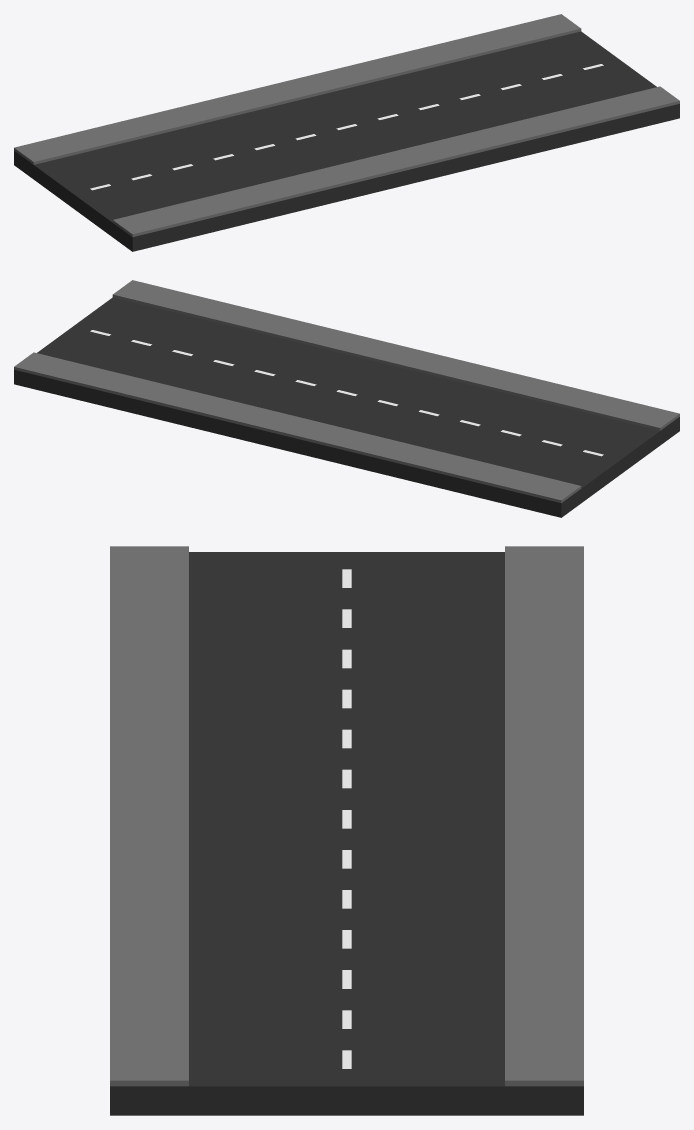
File: Cargo_Road_40M.fbx
3 renders of one model, top to bottom at view 1: azimuth 30°, elevation 25°; view 2: azimuth 150°, elevation 25°; view 3: azimuth 270°, elevation 25°, orthographic. The views are drawn at different scales.
Parts seen in each view (by area): view 1: Cargo_Road_40m_Dikey; view 2: Cargo_Road_40m_Dikey; view 3: Cargo_Road_40m_Dikey.
Boxes of the visible parts, box(x1,y1,x2,y2) form: Cargo_Road_40m_Dikey: box(14, 14, 679, 251); Cargo_Road_40m_Dikey: box(14, 280, 679, 517); Cargo_Road_40m_Dikey: box(110, 546, 583, 1115).
Bounding box in the file's own units: 4000 × 123 × 1500.
